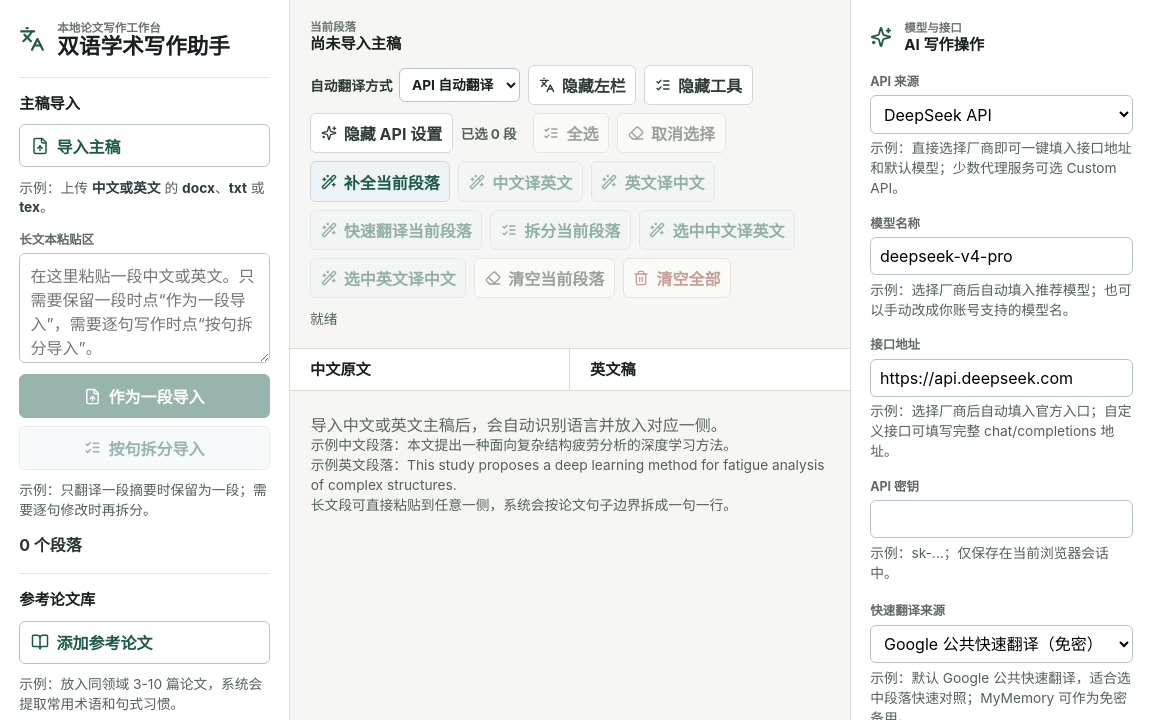
it: App workbench › hides only API settings while keeping AI actions available
The width and height of the screenshot is (1152, 720).
Expected: the element named "AI 操作面板" is shown, [850, 0, 1151, 719]
Expected: the dropdown labelled "API 来源" is shown, [870, 95, 1133, 134]
Click the button "隐藏 API 设置".
click(381, 133)  # box [310, 113, 453, 153]
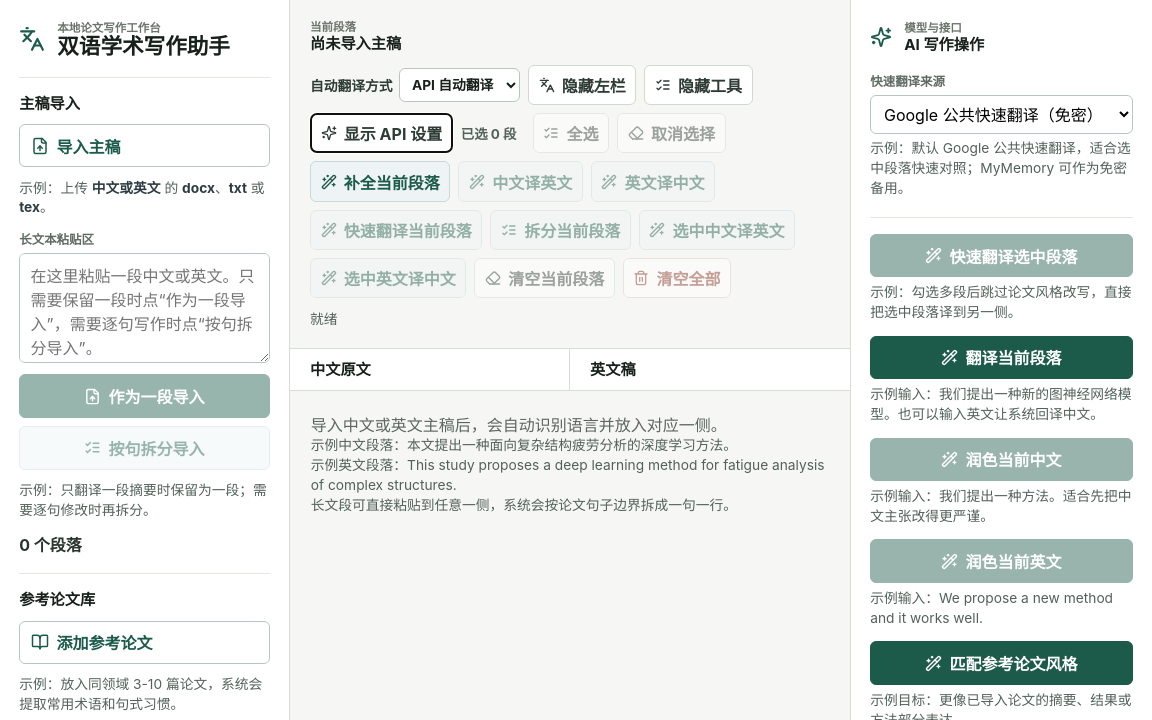
Expected: the element named "AI 操作面板" is shown, [850, 0, 1151, 719]
Result: the text labelled "API 来源" is gone
Result: the button "翻译当前段落" is shown at [870, 336, 1133, 379]
Click the button "显示 API 设置".
click(381, 133)  # box [310, 113, 453, 153]
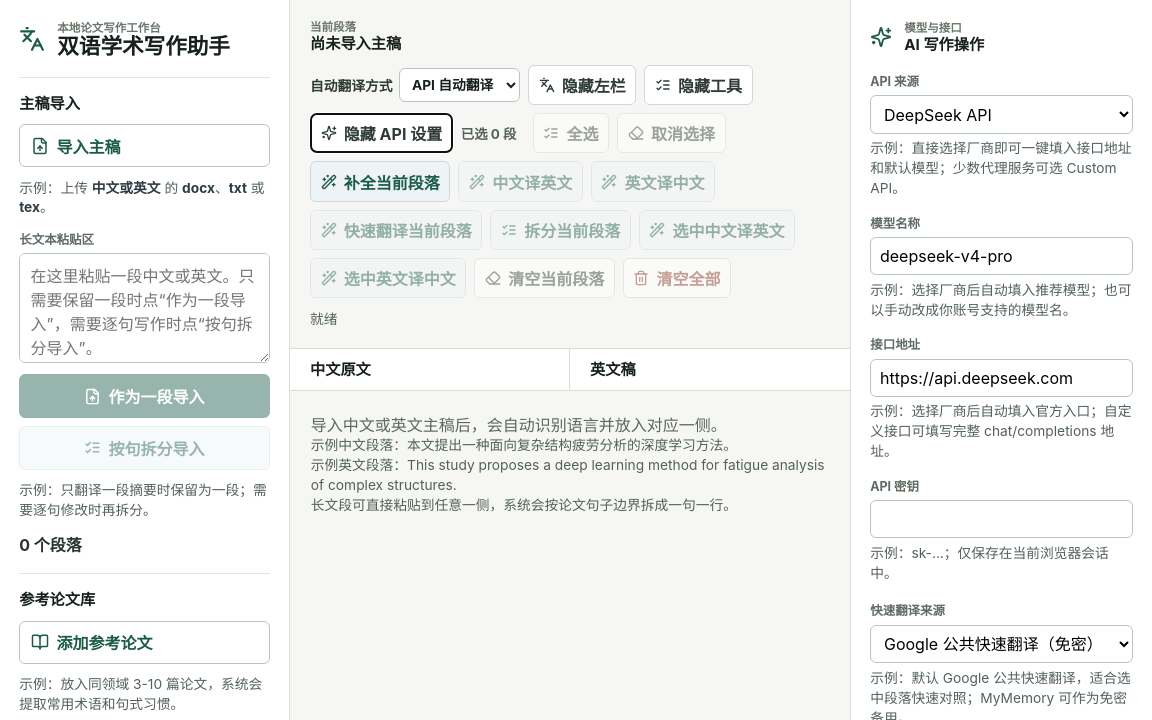
Result: the dropdown labelled "API 来源" is shown at [870, 95, 1133, 134]
